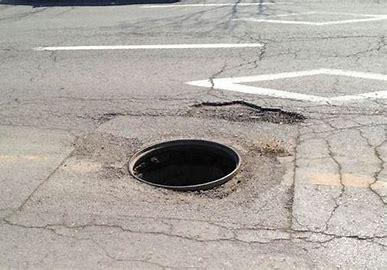wellcover: (127, 133, 243, 194)
